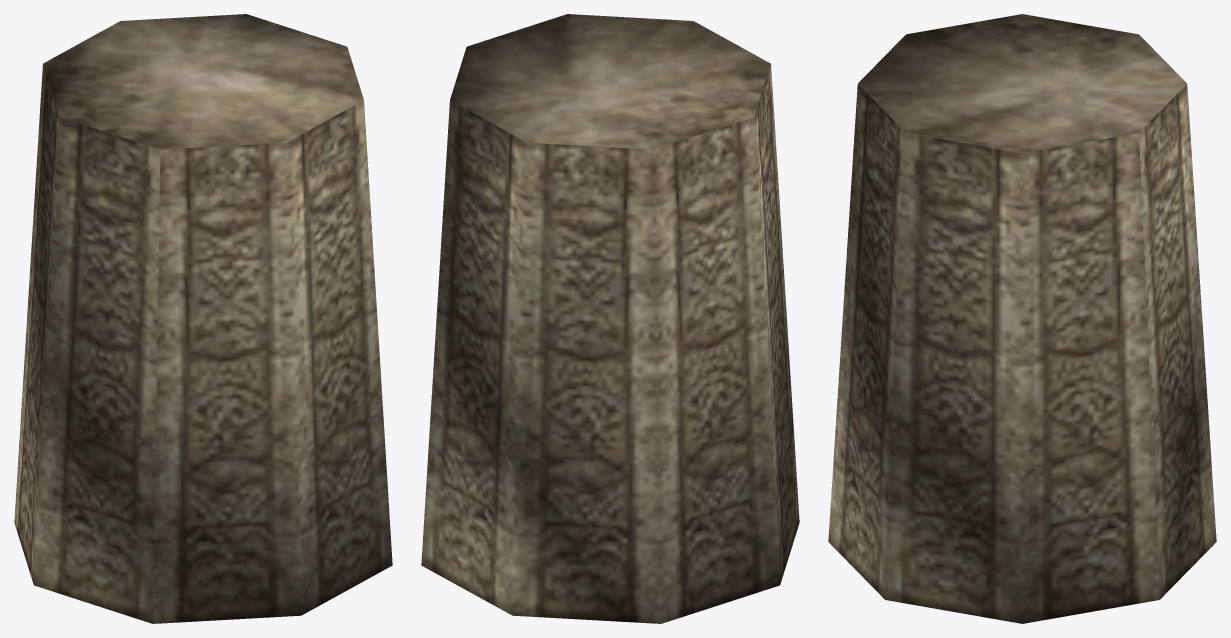
The model's file is general_obj_bigtoewr08.glb.
3 views of the same model, side by side, from view 1: azimuth 30°, elevation 25°; view 2: azimuth 150°, elevation 25°; view 3: azimuth 270°, elevation 25° (orthographic).
Parts seen in each view (by area): view 1: Sphere01; view 2: Sphere01; view 3: Sphere01.
Part boxes in pixels (x1,y1,x2,y2): Sphere01: [14, 14, 392, 623]; Sphere01: [421, 14, 799, 623]; Sphere01: [828, 14, 1216, 623].
Bounding box in the file's own units: 3.7 × 4.82 × 3.7.
1 material, 1 textured.
